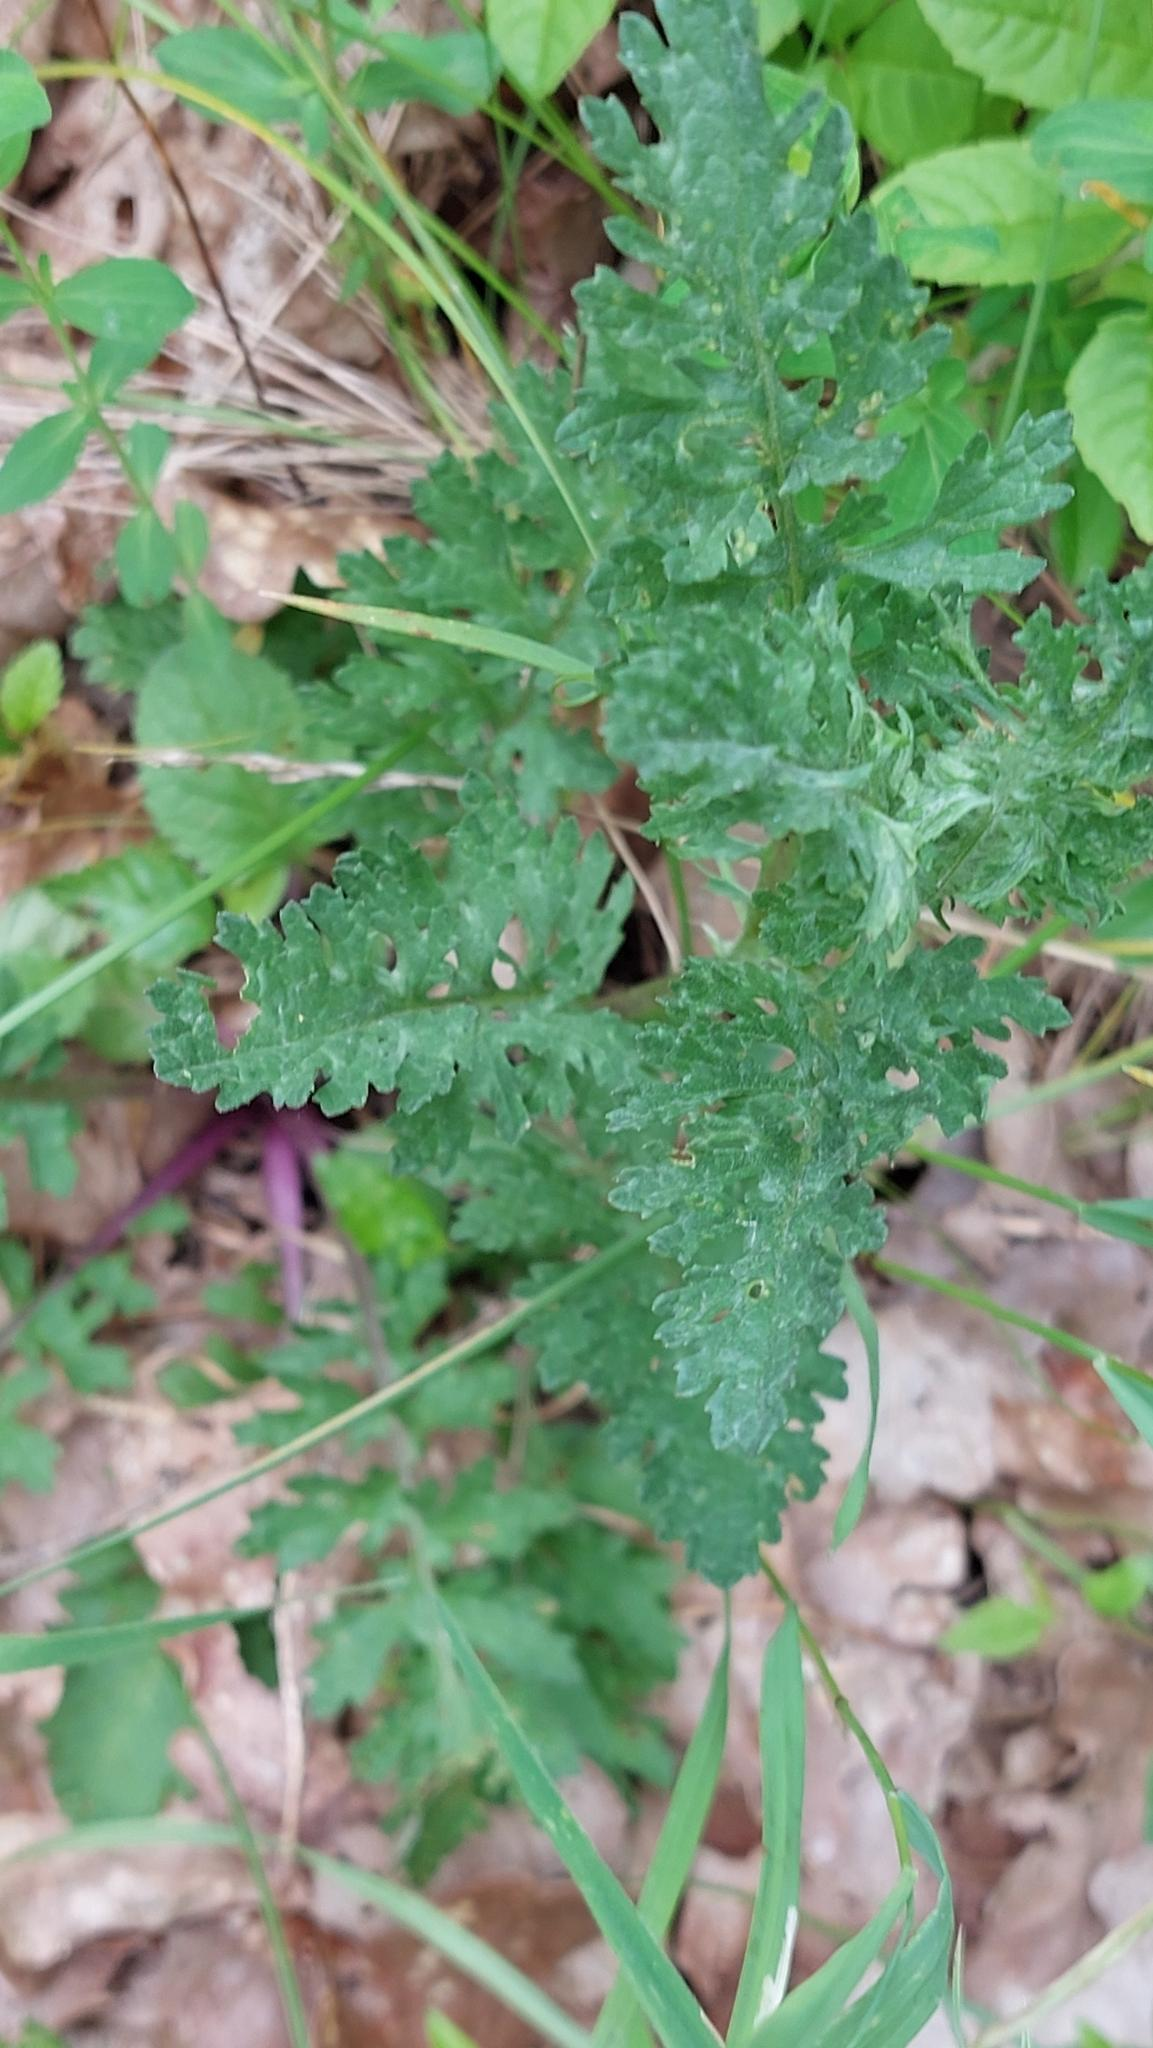Jacobaea vulgaris: (129, 0, 1153, 1604)
